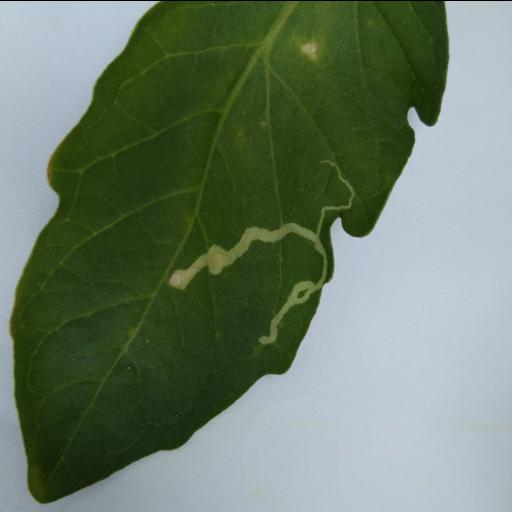disease_tomato: (6, 0, 450, 502)
